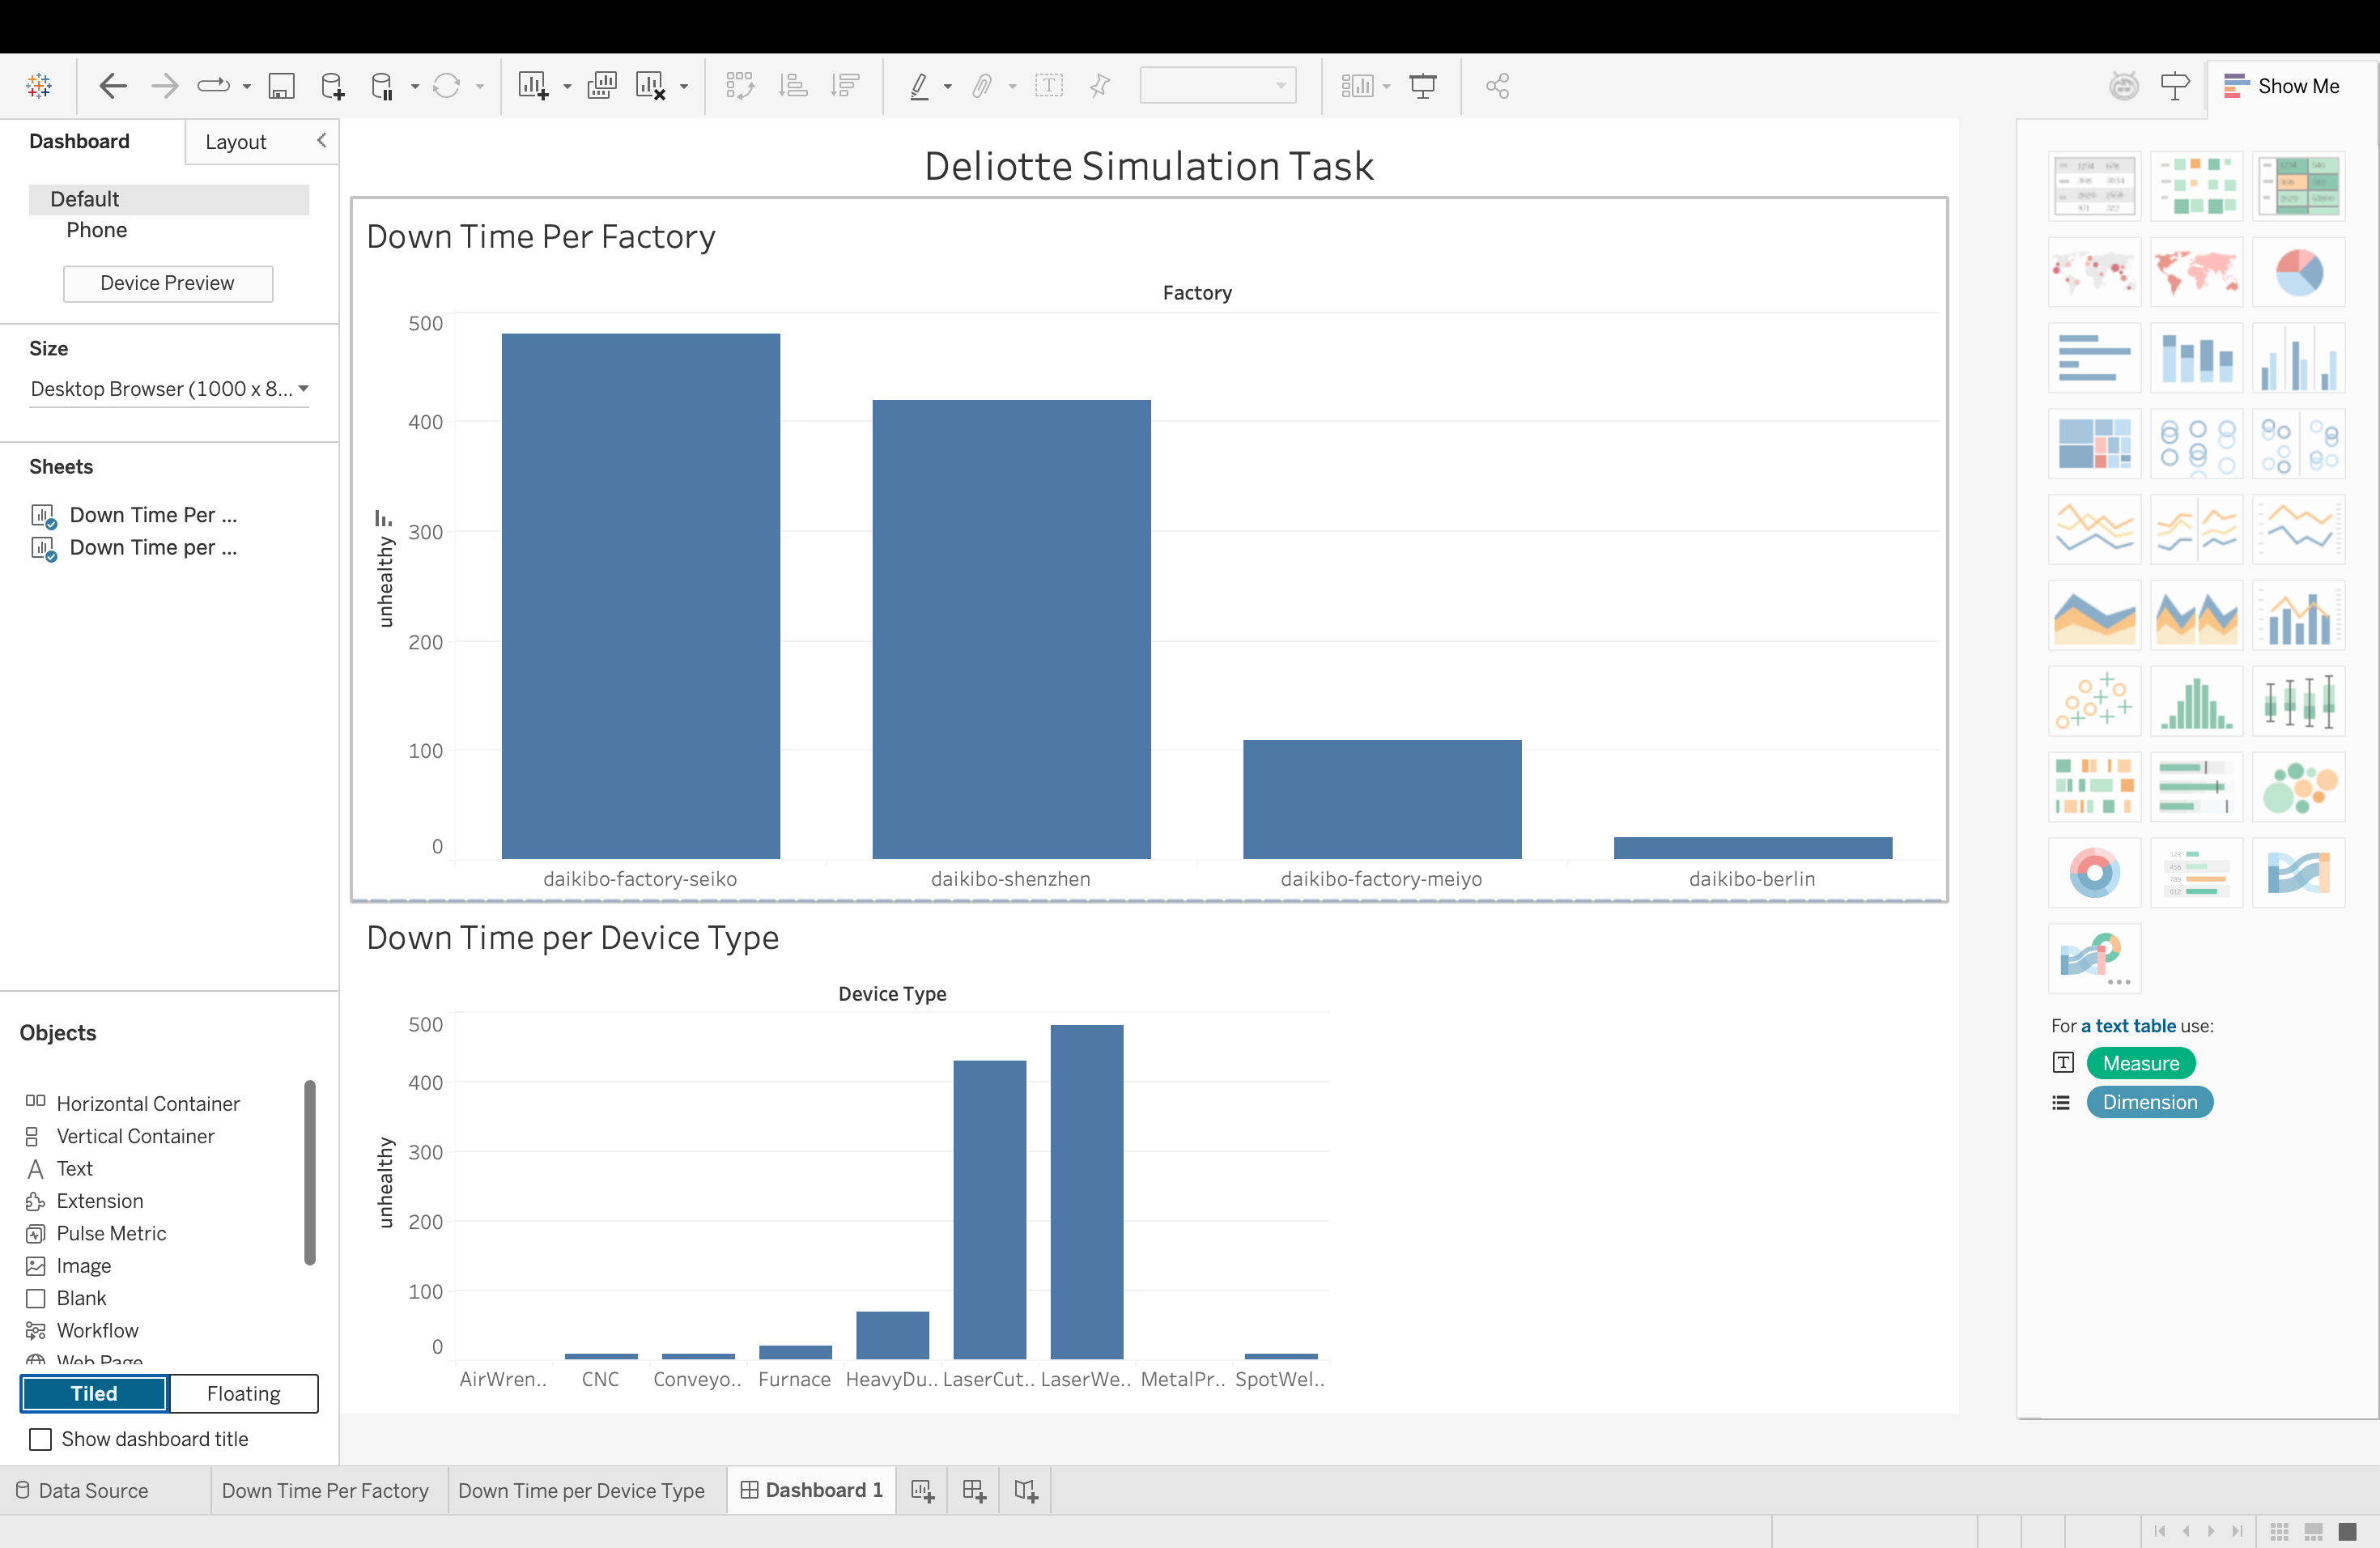

The page's visual inventory and layout, read from the dashboard file:
{"tool":"tableau","page":{"name":"Dashboard 1","canvas":[1000,800],"ordinal":0},"visuals":[{"type":"title","box":[8,8,984,42]},{"type":"worksheet","title":"Down Time Per Factory","mark":"Automatic","rows":["Calculation_0097681628119040"],"cols":["factory"],"box":[8,50,984,433]},{"type":"worksheet","title":"Down Time per Device Type","mark":"Automatic","rows":["Calculation_0097681628119040"],"cols":["deviceType"],"box":[8,483,984,309]}]}

Visuals, with their boxes in screenshot pixels (x1, y1, x2, y2):
title: box=[498, 0, 2311, 49]
"Down Time Per Factory" worksheet: box=[498, 49, 2311, 847]
"Down Time per Device Type" worksheet: box=[498, 847, 2311, 1416]
